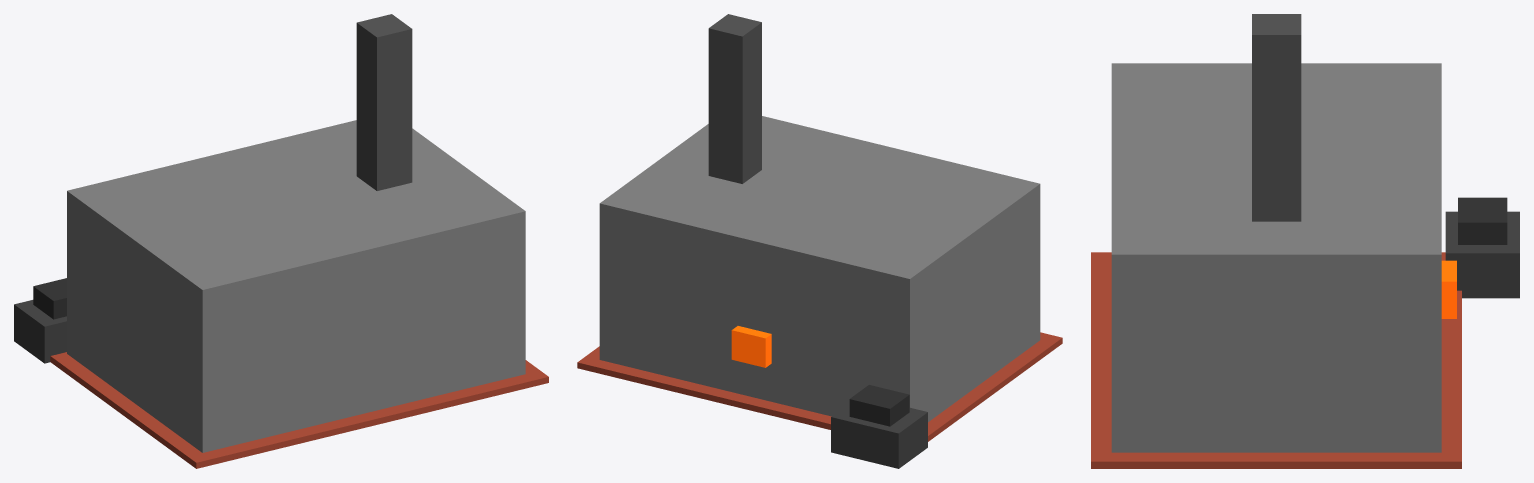
The model's file is forge_t2.glb.
3 views of the same model, side by side, from view 1: azimuth 30°, elevation 25°; view 2: azimuth 150°, elevation 25°; view 3: azimuth 270°, elevation 25° (orthographic). The views are drawn at different scales.
Parts seen in each view (by area): view 1: building-forge; view 2: building-forge; view 3: building-forge.
Boxes of the visible parts, left/top/right/bottom form: building-forge: left=14, top=14, right=548, bottom=468; building-forge: left=577, top=14, right=1062, bottom=468; building-forge: left=1091, top=14, right=1519, bottom=468.
Size of the model in its own units: 0.1771 by 0.1525 by 0.151.
